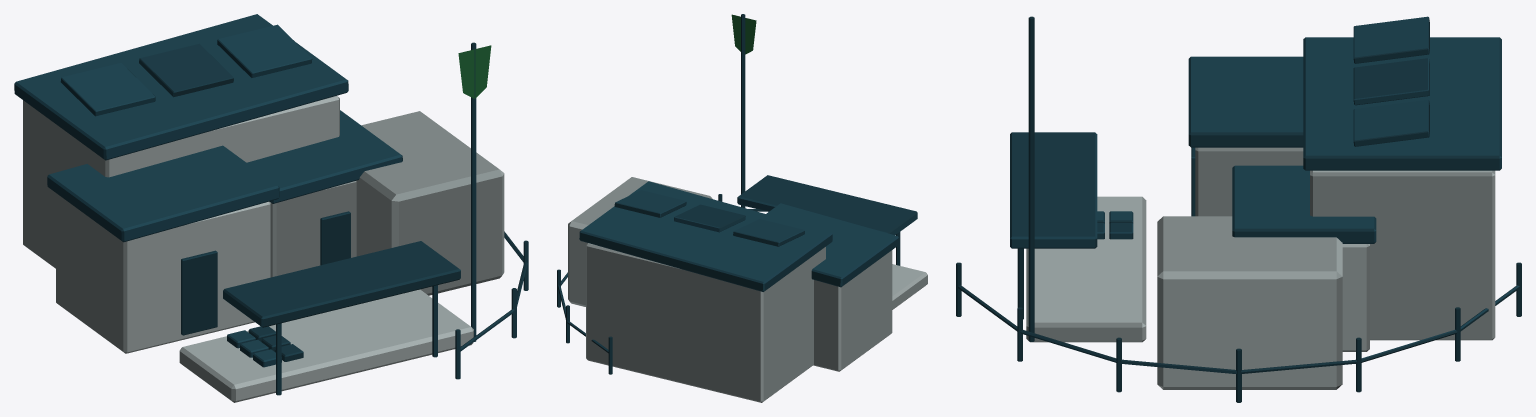
Rendered from edificio-b_002-e5-GRE2sfkp.glb.
The picture shows the model from 3 angles, left to right: view 1: azimuth 30°, elevation 25°; view 2: azimuth 150°, elevation 25°; view 3: azimuth 270°, elevation 25°; orthographic projection. The views are drawn at different scales.
Visible parts, largest first — view 1: edificio_b_002_e5_envolvente, edificio_b_002_e5_detalles, edificio_b_002_e5_team_color; view 2: edificio_b_002_e5_envolvente, edificio_b_002_e5_detalles, edificio_b_002_e5_team_color; view 3: edificio_b_002_e5_envolvente, edificio_b_002_e5_detalles.
Part boxes in pixels (x1,y1,x2,y2): edificio_b_002_e5_envolvente: [23, 96, 504, 402]; edificio_b_002_e5_detalles: [14, 14, 528, 395]; edificio_b_002_e5_team_color: [458, 45, 491, 98]; edificio_b_002_e5_envolvente: [568, 177, 927, 402]; edificio_b_002_e5_detalles: [557, 14, 917, 374]; edificio_b_002_e5_team_color: [731, 14, 756, 54]; edificio_b_002_e5_envolvente: [1026, 147, 1495, 389]; edificio_b_002_e5_detalles: [956, 16, 1521, 402].
Size of the model in its own units: 45.34 by 33 by 51.88.
Materials: 3 (3 with a texture image).
